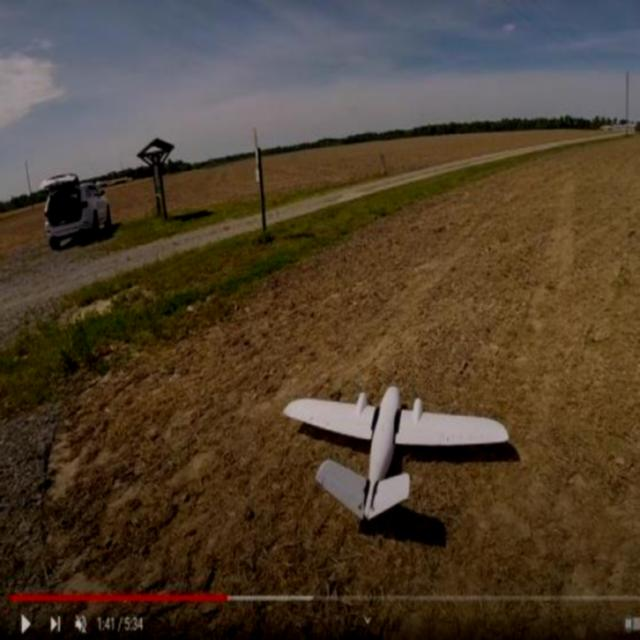plane: (282, 384, 512, 524)
